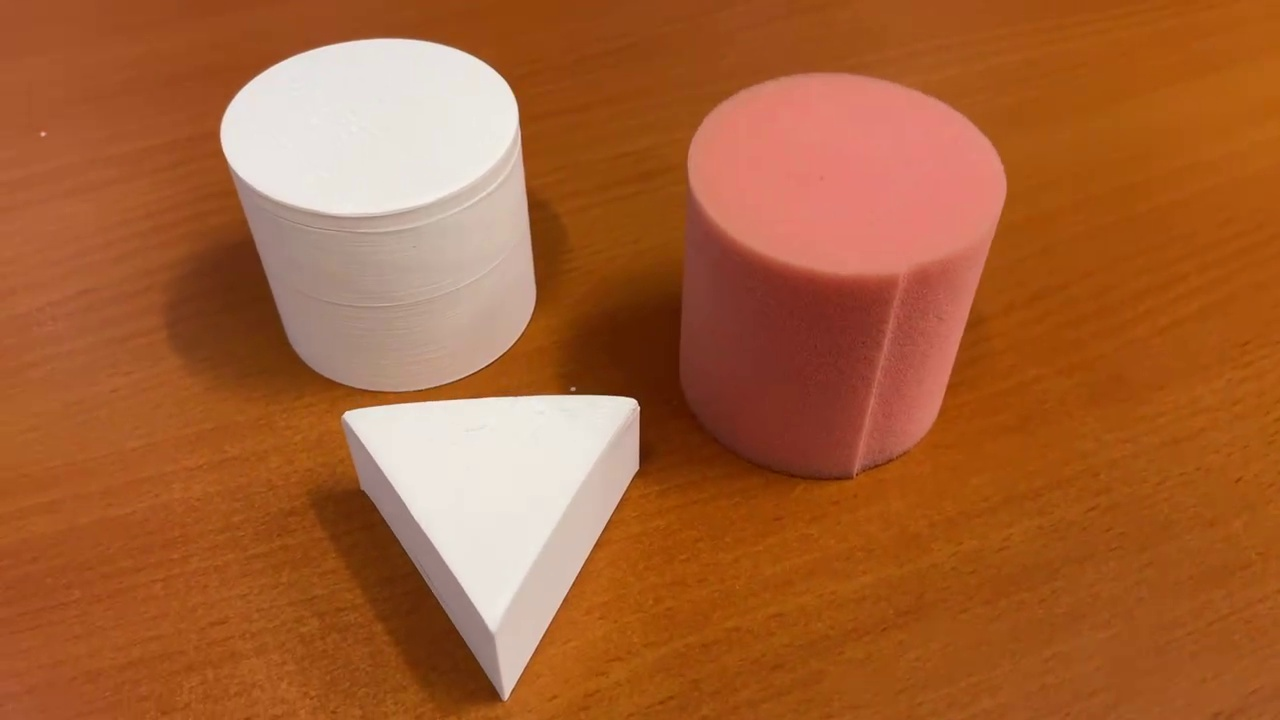Cylinder: (668, 64, 1011, 488), (219, 33, 547, 394)
Triangle_short: (332, 390, 646, 700)
